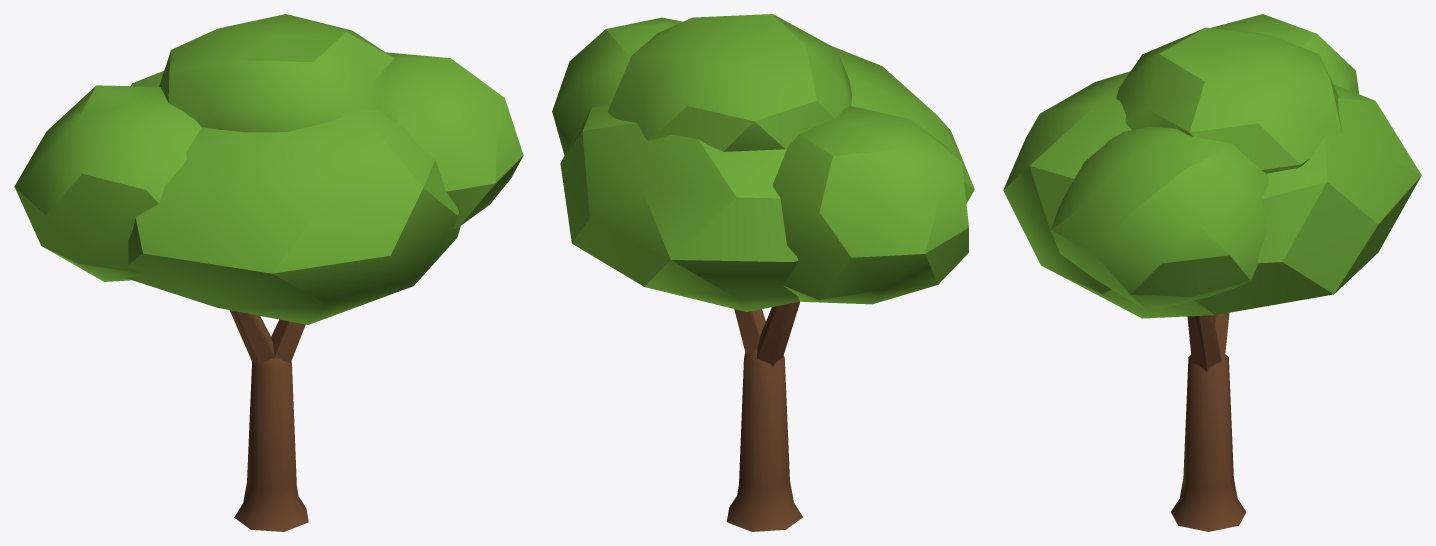
Rendered from tree_maple.glb.
The picture shows the model from 3 angles, left to right: view 1: azimuth 30°, elevation 25°; view 2: azimuth 150°, elevation 25°; view 3: azimuth 270°, elevation 25°; orthographic projection. The views are drawn at different scales.
Parts seen in each view (by area): view 1: tree; view 2: tree; view 3: tree.
Part boxes in pixels (box(x1,y1,x2,y2)): tree: box(14, 14, 523, 531); tree: box(552, 14, 974, 531); tree: box(1003, 14, 1421, 531).
Size of the model in its own units: 5.71 by 6.04 by 4.85.
